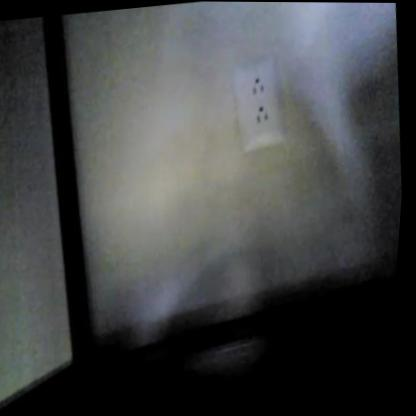OUTLET: (224, 49, 295, 153)
